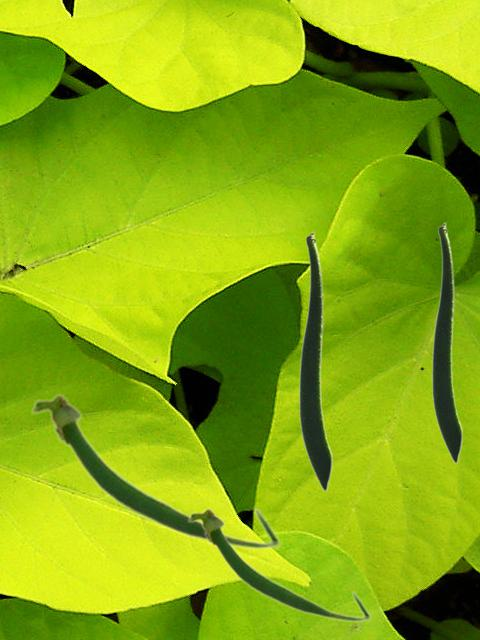french_bean: (29, 391, 281, 550), (186, 506, 371, 622), (298, 231, 332, 491), (431, 222, 462, 463)
